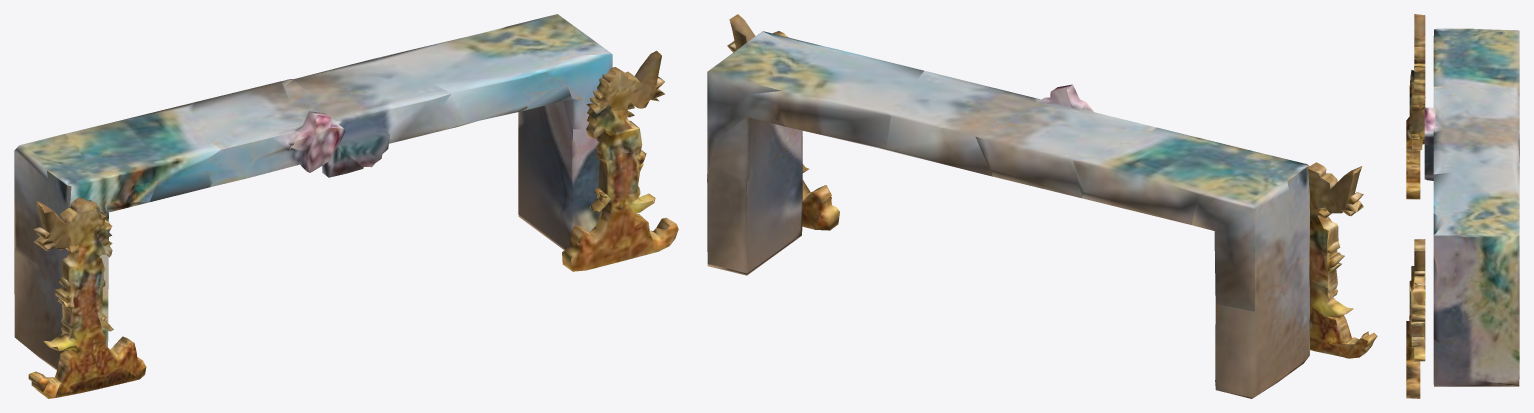
The model's file is gate_opening_lod2.glb.
3 renders of one model, left to right at view 1: azimuth 30°, elevation 25°; view 2: azimuth 150°, elevation 25°; view 3: azimuth 270°, elevation 25°, orthographic. The views are drawn at different scales.
Parts seen in each view (by area): view 1: tripo_node_9479dd79-51c2-4fb9-b7f1-14c452cb42b9; view 2: tripo_node_9479dd79-51c2-4fb9-b7f1-14c452cb42b9; view 3: tripo_node_9479dd79-51c2-4fb9-b7f1-14c452cb42b9.
Part boxes in pixels (bbox=[...]): tripo_node_9479dd79-51c2-4fb9-b7f1-14c452cb42b9: bbox=[14, 14, 678, 398]; tripo_node_9479dd79-51c2-4fb9-b7f1-14c452cb42b9: bbox=[707, 14, 1377, 398]; tripo_node_9479dd79-51c2-4fb9-b7f1-14c452cb42b9: bbox=[1406, 14, 1519, 398].
Bounding box in the file's own units: 0.9814 × 0.3069 × 0.1925.
1 material, 1 textured.
